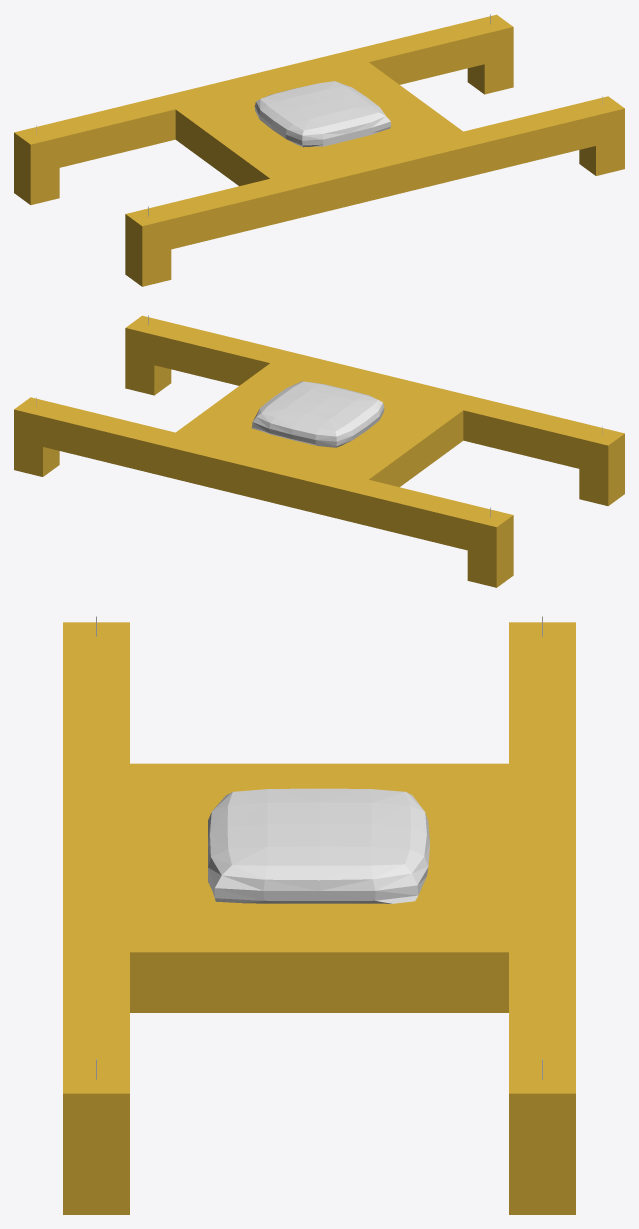
File: Drone.dae
3 views of the same model, one above another, from view 1: azimuth 30°, elevation 25°; view 2: azimuth 150°, elevation 25°; view 3: azimuth 270°, elevation 25° (orthographic). The views are drawn at different scales.
Visible parts, largest first — view 1: Cube.001, Cube; view 2: Cube.001, Cube; view 3: Cube.001, Cube.
Part boxes in pixels (x1=…): Cube.001: x1=14, y1=14, x2=624, y2=286; Cube: x1=254, y1=81, x2=390, y2=147; Cube.001: x1=14, y1=315, x2=624, y2=587; Cube: x1=251, y1=381, x2=384, y2=447; Cube.001: x1=63, y1=616, x2=575, y2=1214; Cube: x1=208, y1=788, x2=429, y2=903.
Size of the model in its own units: 0.5 by 0.23 by 0.0768.
